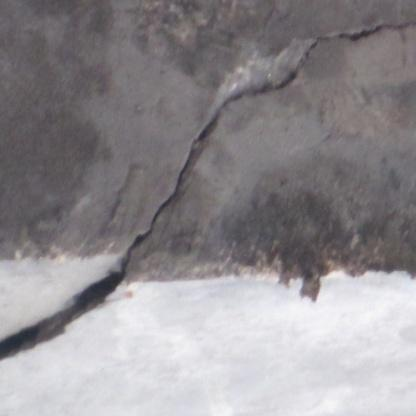Cracks: (0, 89, 250, 372), (307, 18, 416, 55), (272, 67, 303, 93)
